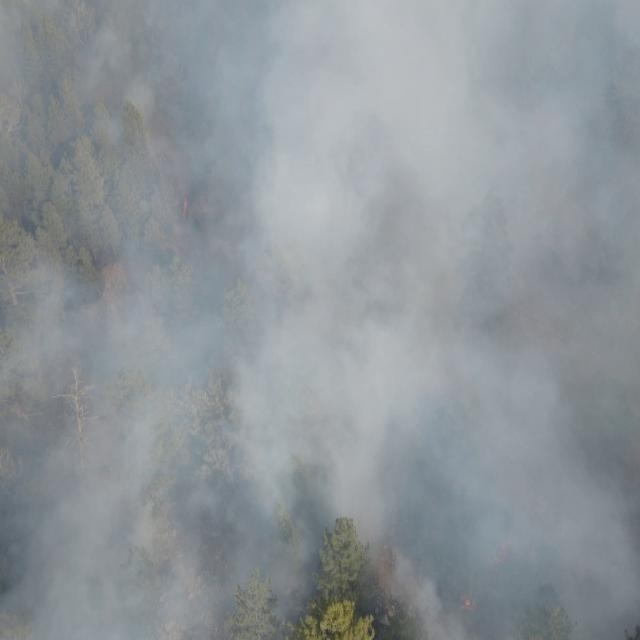fire: (486, 532, 520, 572), (458, 590, 480, 616), (180, 198, 190, 222)
smoke: (0, 0, 308, 640), (373, 0, 640, 640), (309, 0, 373, 604)
